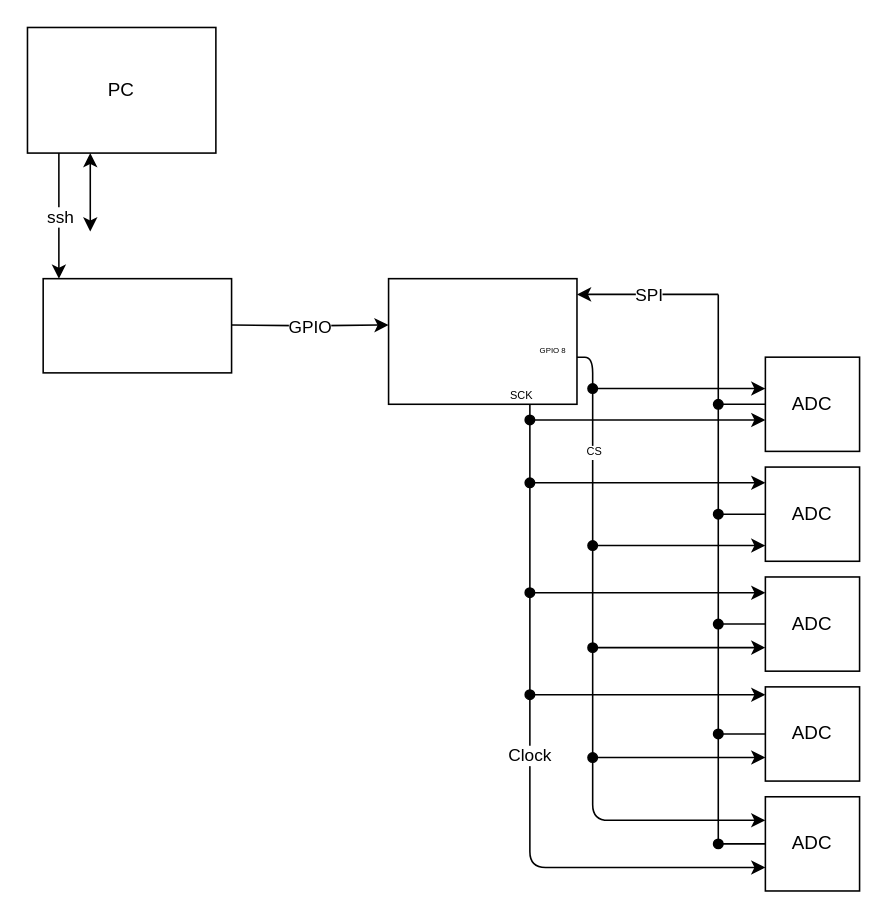
Some shapes in this 887 by 918 pixel diagram are drawn without their labels. The box of each missing label's shape, as (x1, y1, x2, y2) in pixels:
Pi-wedge: (387, 277, 577, 404)
Rasp-pi: (42, 277, 232, 373)
